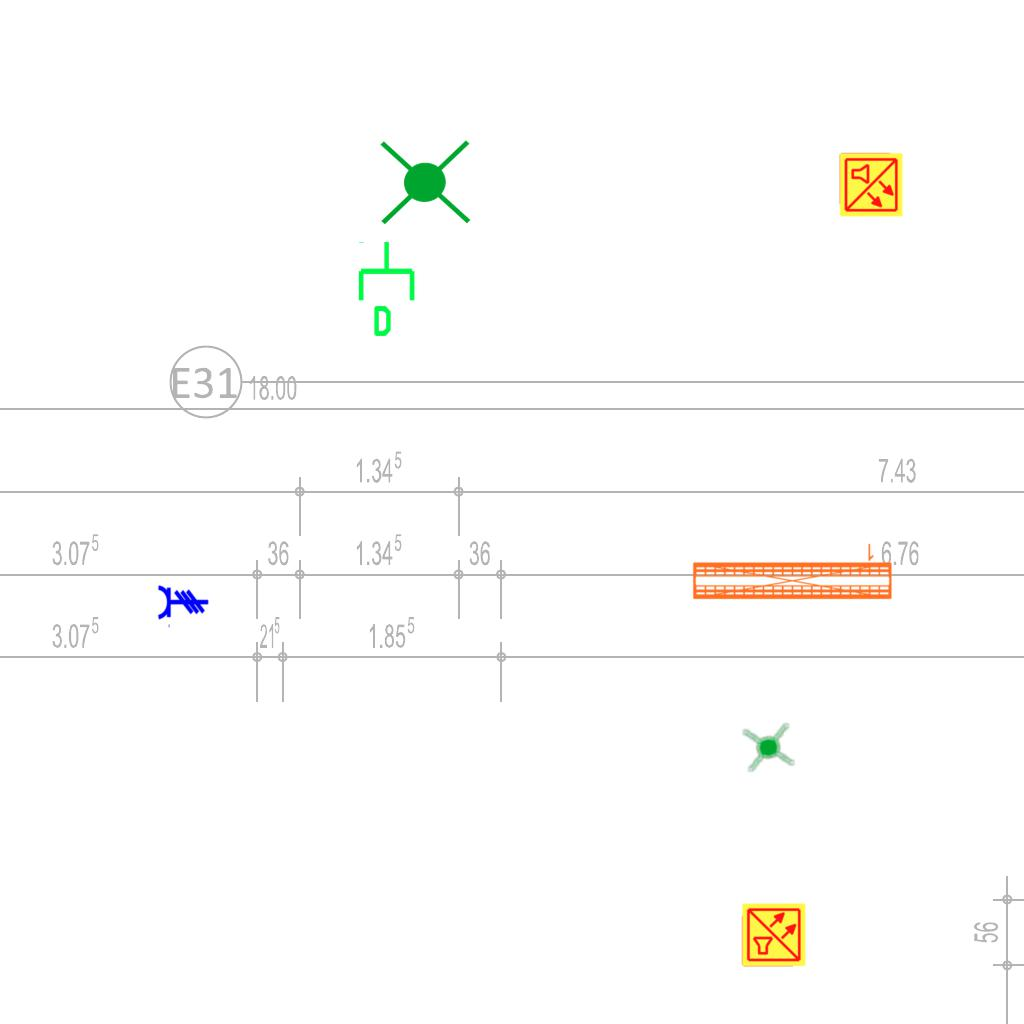Buero_Pendelleuchten_LED: (689, 539, 895, 604)
CEE_Drehstrom_Steckdose_16_32_A: (157, 584, 209, 629)
Datenanschluss_einfach: (354, 239, 423, 339)
Notlichtbaustein_in_Allgemeinbeleuchtug_engebaut_Einbau_(1UG_und_2UG_Aufbauvaria: (375, 132, 475, 235), (740, 719, 797, 777)
OKW_Multisensormelder_(Kombination_optischer_Rauch-Kahlenmonoxid_Waerme-Melder): (741, 902, 807, 968), (838, 152, 904, 218)
